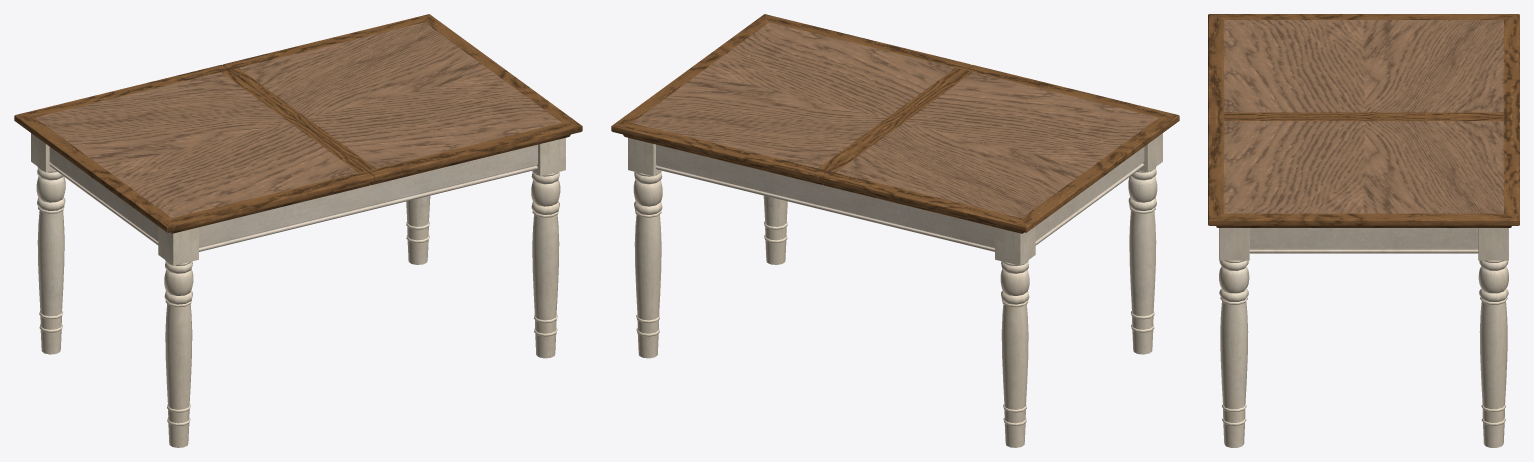
File: white_wooden_kitchen_table_2.glb
3 renders of one model, left to right at view 1: azimuth 30°, elevation 25°; view 2: azimuth 150°, elevation 25°; view 3: azimuth 270°, elevation 25°, orthographic.
Parts seen in each view (by area): view 1: Table_Top_R4, Table_Top_R2, Under_Panel_F2, Leg_FR8, Leg_FR2, Leg_FR10, Under_Panel_L2, Leg_FR6; view 2: Table_Top_R4, Table_Top_R2, Under_Panel_F4, Leg_FR10, Leg_FR6, Leg_FR8, Under_Panel_L2, Leg_FR2; view 3: Table_Top_R2, Table_Top_R4, Under_Panel_L4, Leg_FR2, Leg_FR6.
Part boxes in pixels (x1,y1,x2,y2): Table_Top_R4: (14,64,374,233); Table_Top_R2: (222,14,582,185); Under_Panel_F2: (199,144,537,251); Leg_FR8: (158,226,198,447); Leg_FR2: (531,138,565,358); Leg_FR10: (31,133,65,354); Under_Panel_L2: (49,147,158,245); Leg_FR6: (406,195,430,264); Table_Top_R4: (819,64,1179,233); Table_Top_R2: (611,14,971,185); Under_Panel_F4: (656,144,994,251); Leg_FR10: (995,226,1035,447); Leg_FR6: (628,138,662,358); Leg_FR8: (1128,133,1162,354); Under_Panel_L2: (1035,147,1144,245); Leg_FR2: (763,195,787,264); Table_Top_R2: (1208,117,1519,227); Table_Top_R4: (1208,14,1519,117); Under_Panel_L4: (1249,228,1478,253); Leg_FR2: (1219,228,1249,447); Leg_FR6: (1478,228,1508,447).
Size of the model in its own units: 140 by 74.74 by 89.48.
1 material, 1 textured.
